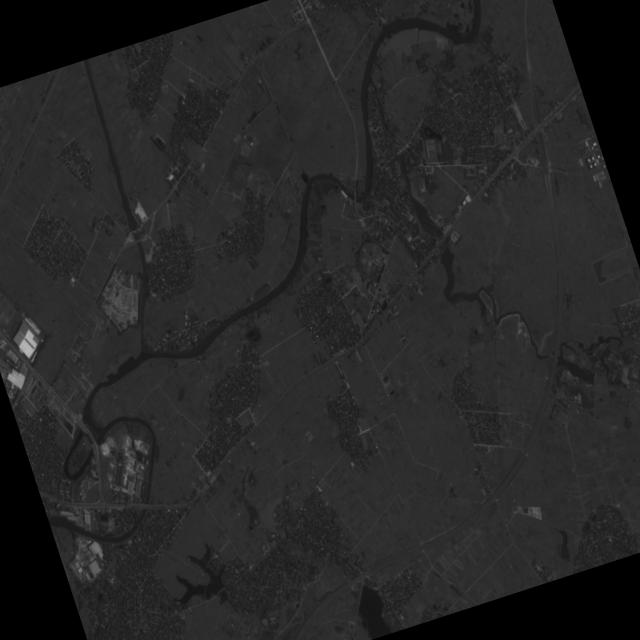storage-tank: (587, 158, 591, 162), (592, 156, 595, 160), (594, 162, 597, 166), (590, 164, 593, 168), (603, 164, 606, 167)
